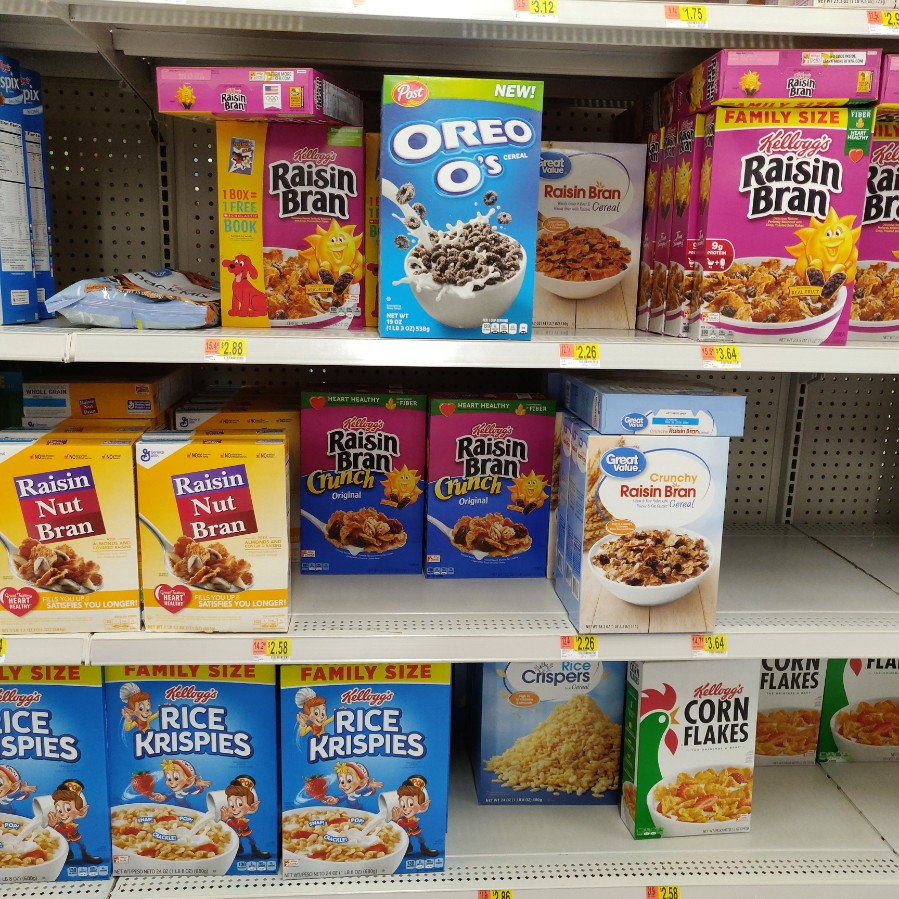Oreo-563424384: (370, 66, 539, 343)
